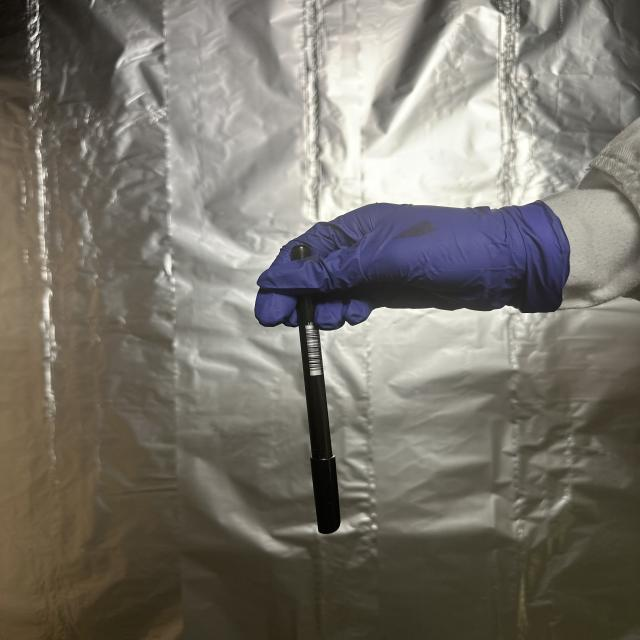gloves_contaminated: (255, 201, 570, 330)
